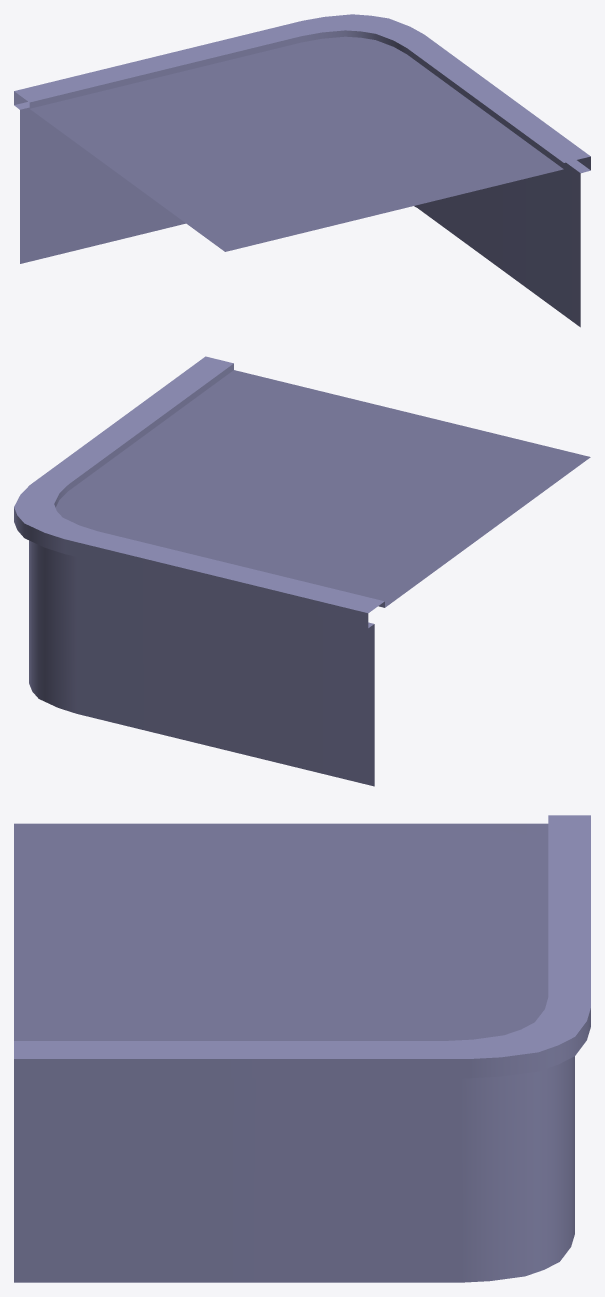
File: Wall_Corner.fbx
3 views of the same model, one above another, from view 1: azimuth 30°, elevation 25°; view 2: azimuth 150°, elevation 25°; view 3: azimuth 270°, elevation 25° (orthographic). The views are drawn at different scales.
Visible parts, largest first — view 1: Wall_Corner; view 2: Wall_Corner; view 3: Wall_Corner.
Part boxes in pixels (x1,y1,x2,y2): Wall_Corner: (14,14,590,327); Wall_Corner: (14,356,590,786); Wall_Corner: (14,815,590,1282).
Bounding box in the file's own units: 231 × 102 × 231.
